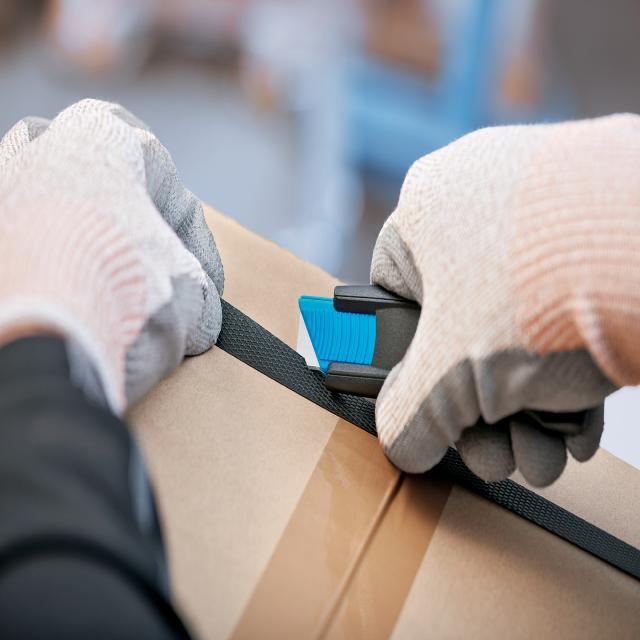gloves: (367, 108, 640, 492), (1, 102, 224, 420)
